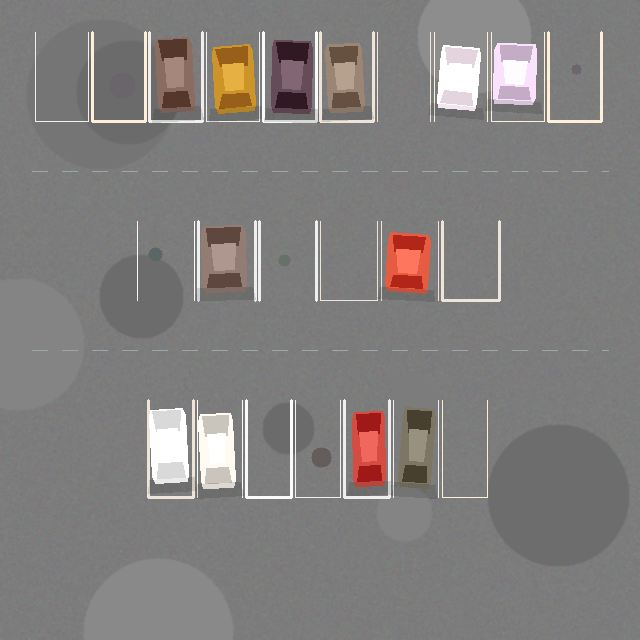space-empty: (35, 32, 88, 121), (92, 32, 145, 121), (377, 32, 430, 121), (548, 32, 601, 121), (137, 221, 194, 300), (259, 221, 316, 300), (320, 221, 377, 300), (442, 221, 499, 300), (246, 400, 291, 497), (295, 400, 340, 497), (442, 400, 487, 497)
space-occupied: (149, 32, 202, 121), (206, 32, 259, 121), (263, 32, 316, 121), (320, 32, 373, 121), (434, 32, 487, 121), (491, 32, 544, 121), (198, 221, 255, 300), (381, 221, 438, 300), (148, 400, 193, 497), (197, 400, 242, 497), (344, 400, 389, 497), (393, 400, 438, 497)
